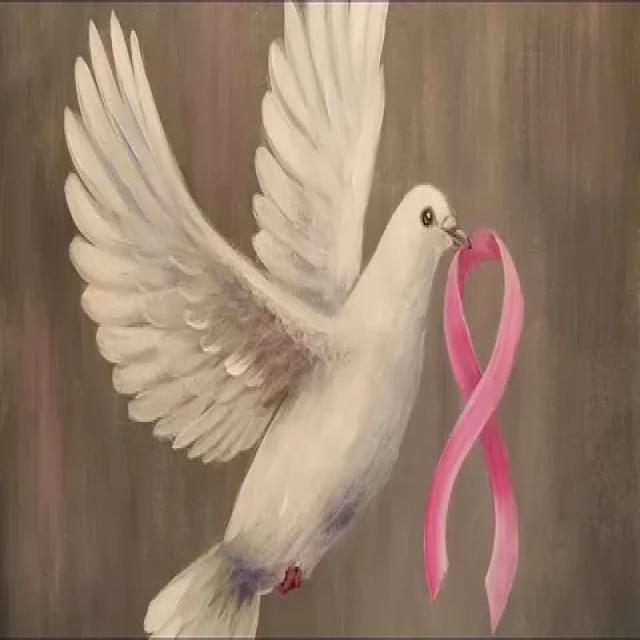pigeon: (35, 0, 482, 640)
